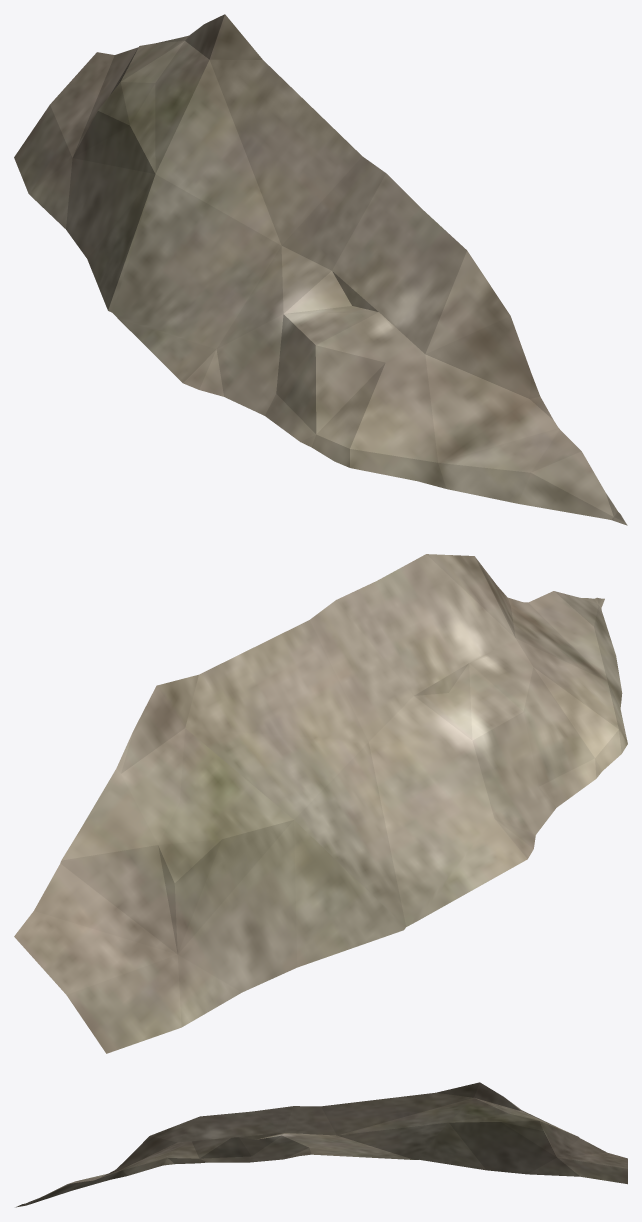
3 renders of one model, top to bottom at view 1: azimuth 30°, elevation 25°; view 2: azimuth 150°, elevation 25°; view 3: azimuth 270°, elevation 25°, orthographic. The views are drawn at different scales.
Bounding box in the file's own units: 1.09 × 1.2 × 5.31.
Materials: 1 (1 with a texture image).
